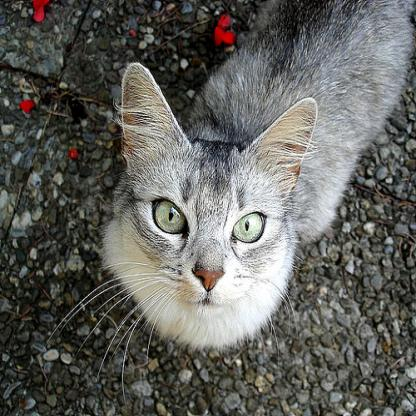cat: (111, 38, 372, 349)
